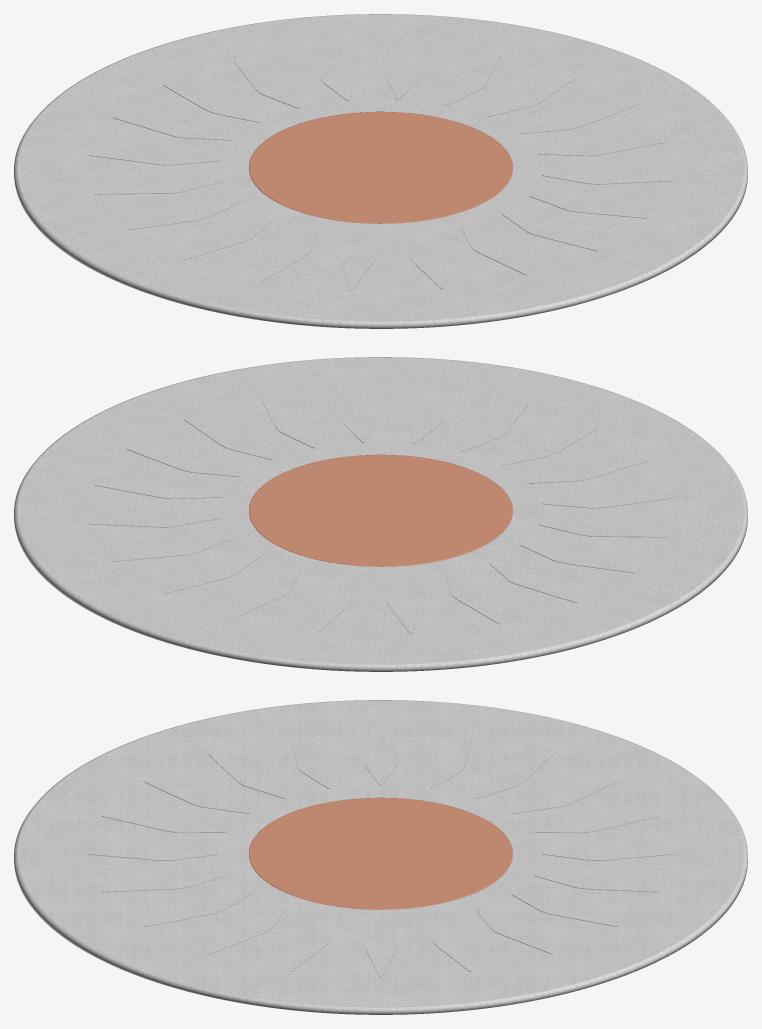
Rendered from sunburst-rug.glb.
3 renders of one model, top to bottom at view 1: azimuth 30°, elevation 25°; view 2: azimuth 150°, elevation 25°; view 3: azimuth 270°, elevation 25°, orthographic.
Visible parts, largest first — view 1: catalog_surface_RealismUV; view 2: catalog_surface_RealismUV; view 3: catalog_surface_RealismUV.
Part boxes in pixels (left/top/right/bottom): catalog_surface_RealismUV: left=14, top=14, right=747, bottom=328; catalog_surface_RealismUV: left=14, top=357, right=747, bottom=671; catalog_surface_RealismUV: left=14, top=700, right=747, bottom=1014.
Bounding box in the file's own units: 2 × 0.022 × 2.
Materials: 3 (2 with a texture image).
